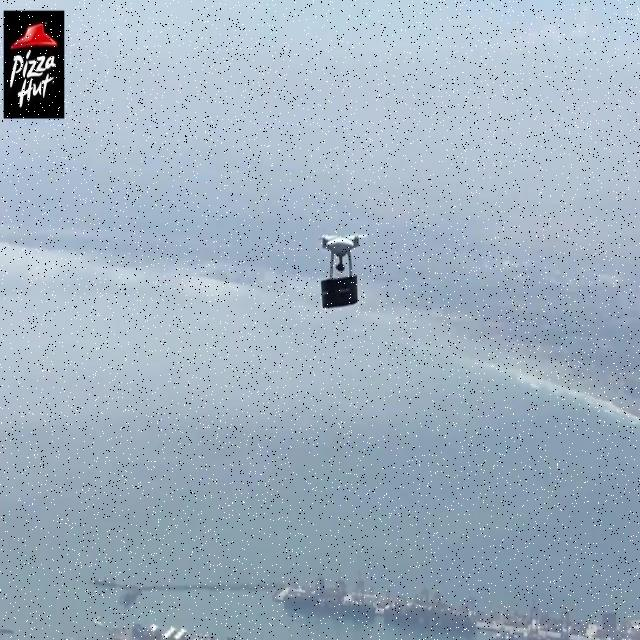UAV: (318, 234, 368, 279)
